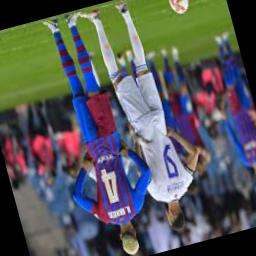football: (166, 0, 190, 15)
